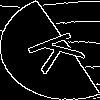K: (25, 25, 97, 76)
